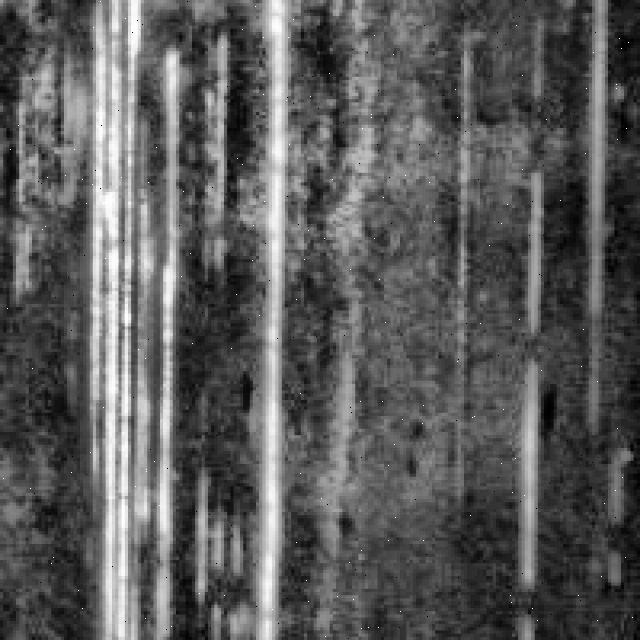Inclusion: (74, 0, 176, 634), (236, 0, 298, 634), (572, 0, 614, 314), (509, 340, 544, 630)
